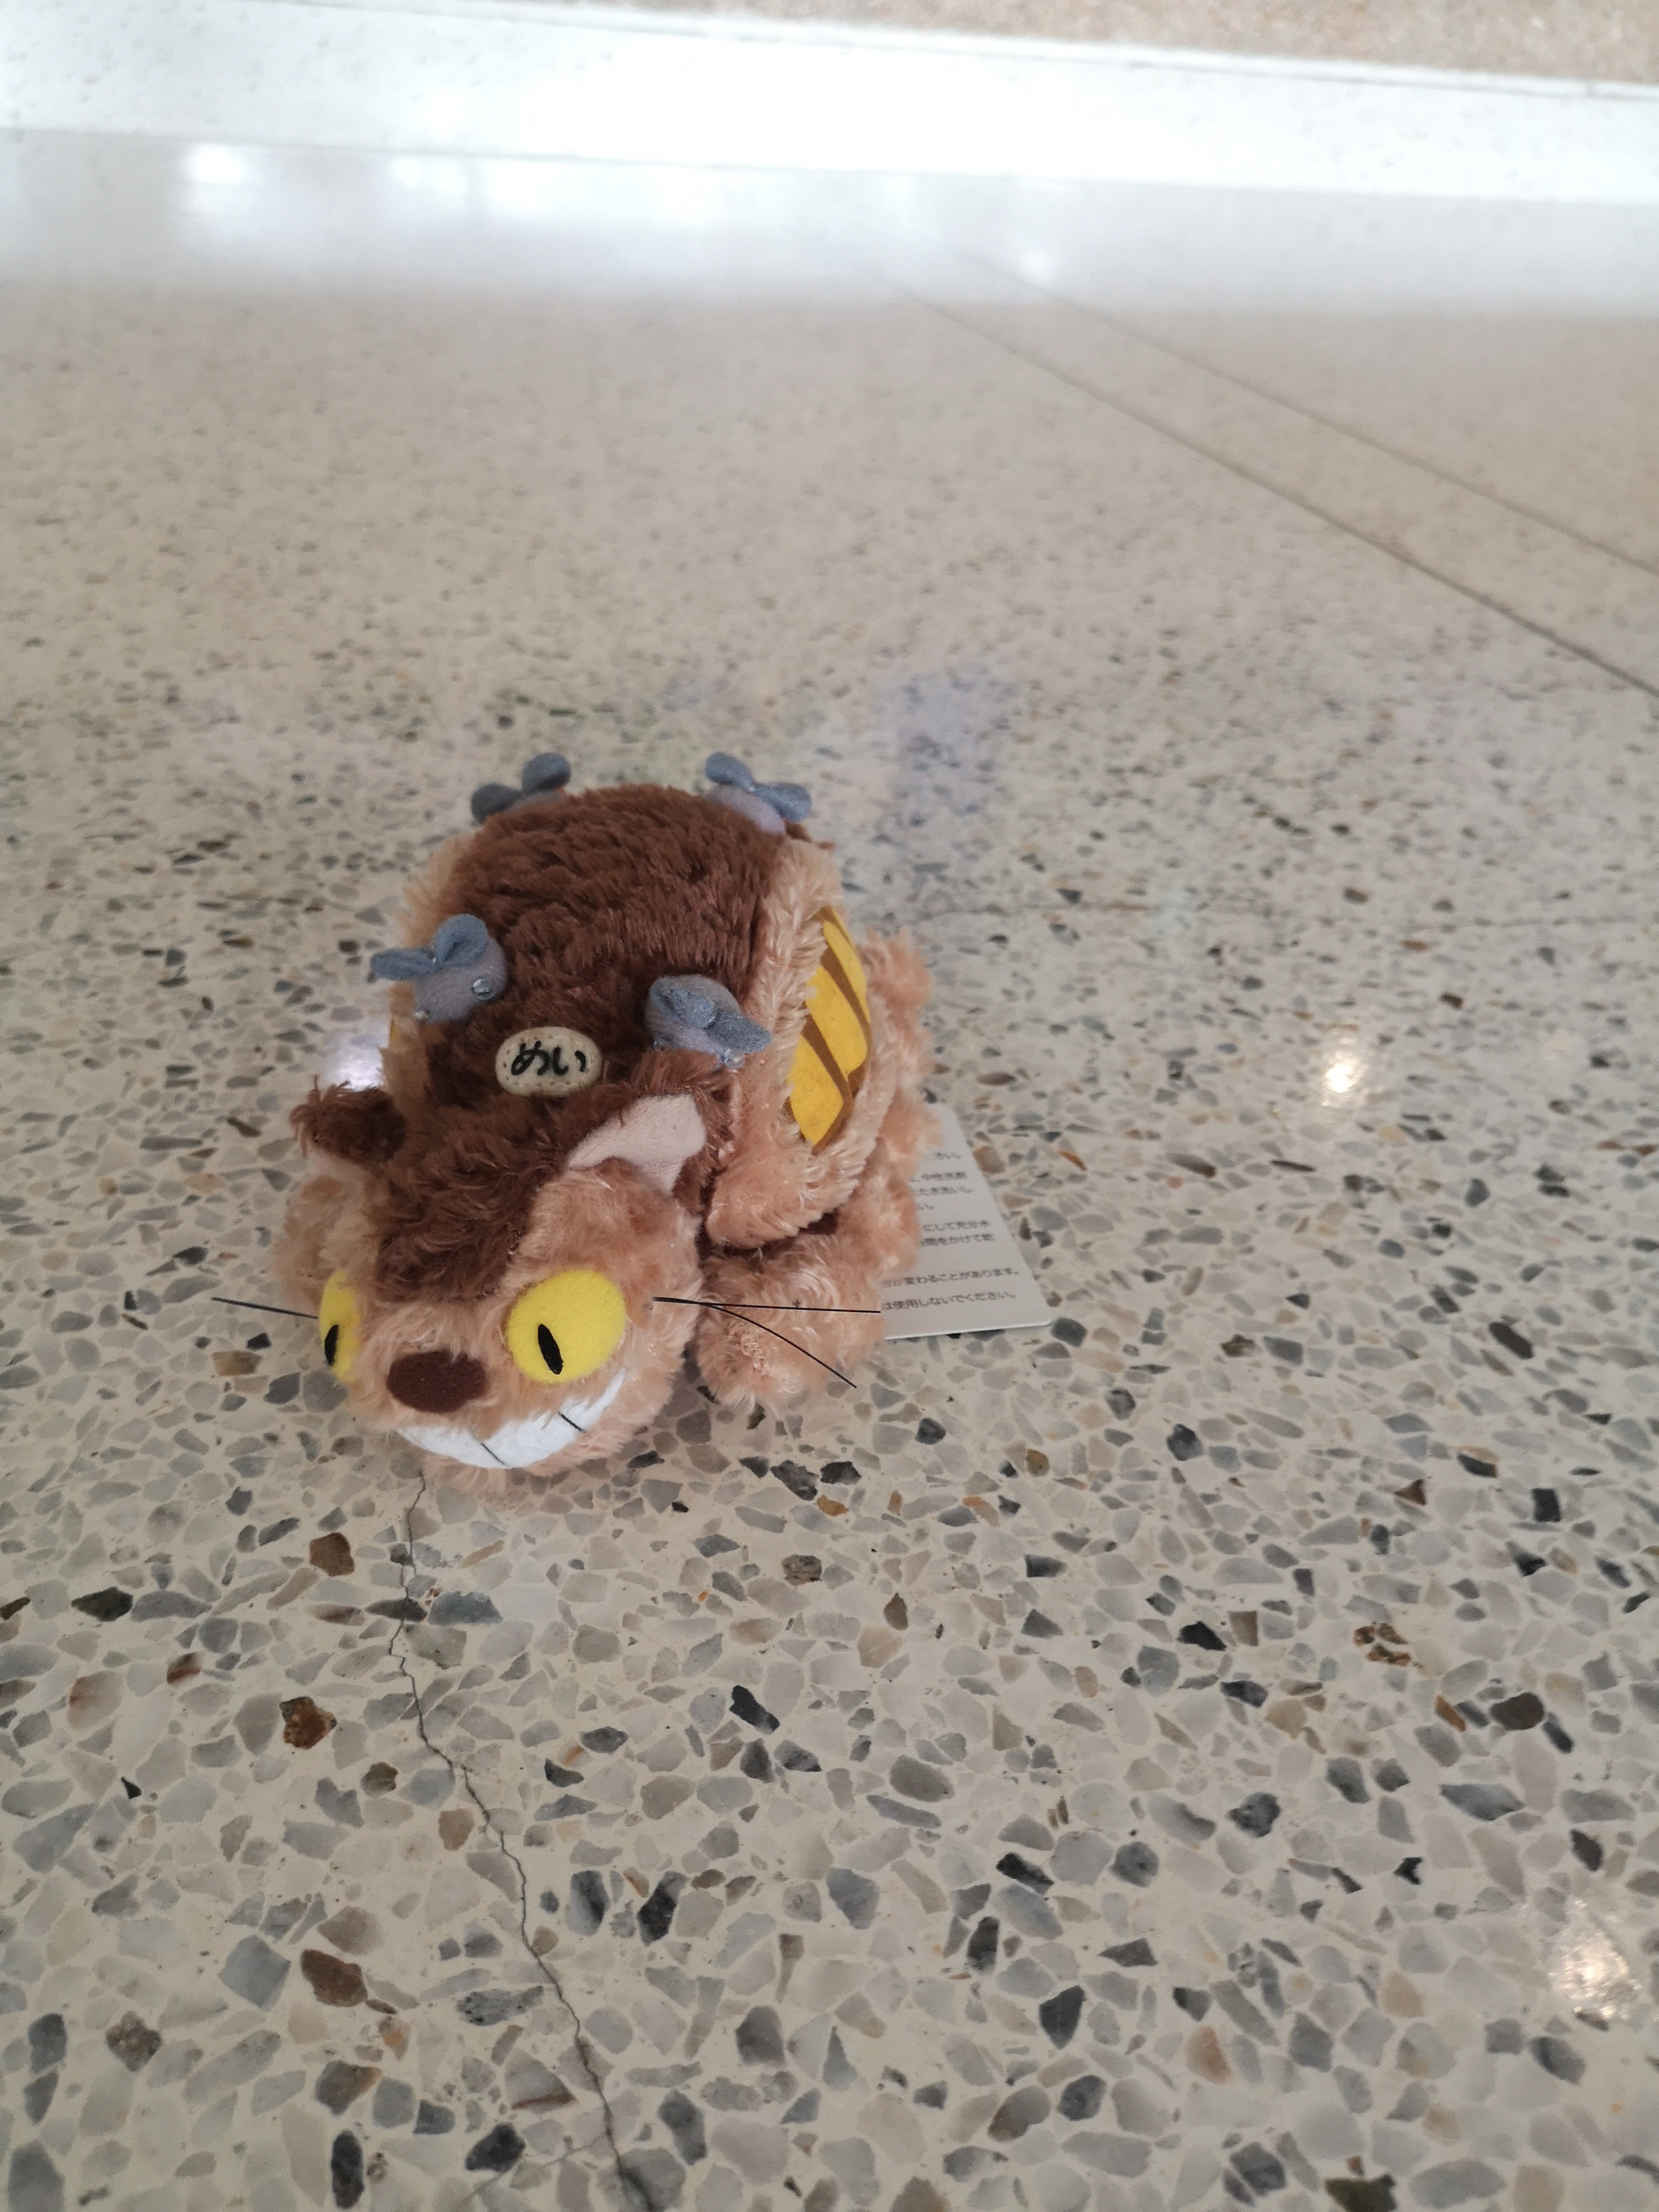nekobus: (207, 740, 1066, 1498)
